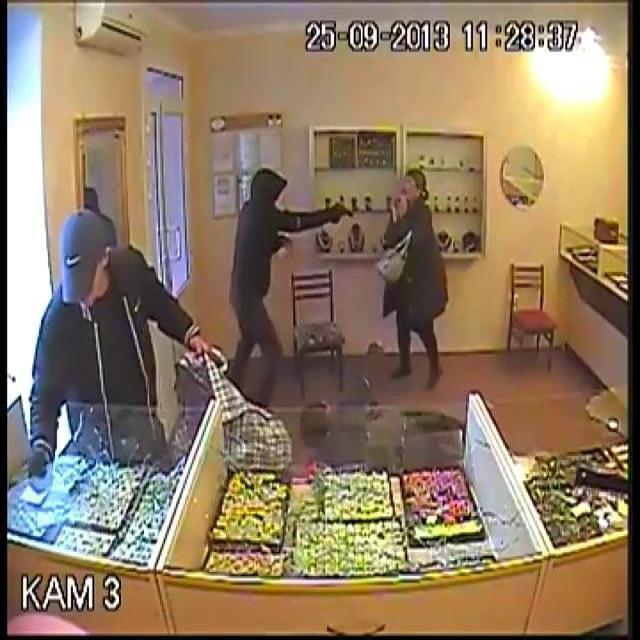pistol: (324, 194, 362, 242)
